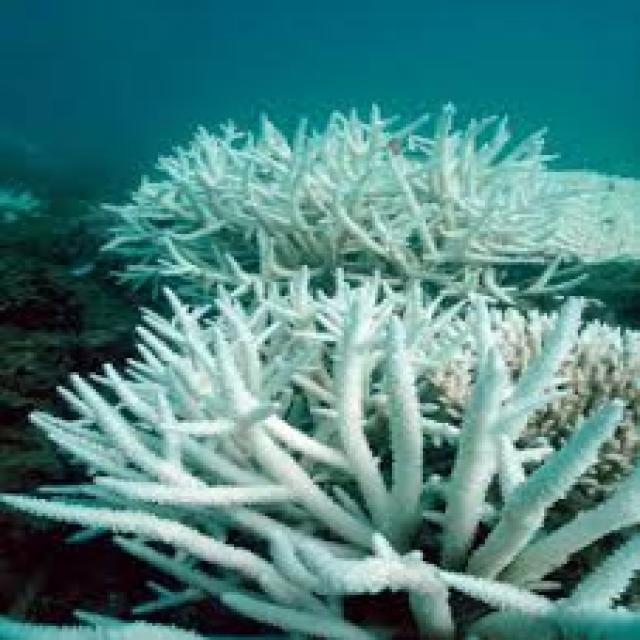Bleached: (46, 288, 640, 640), (116, 117, 567, 282), (421, 306, 640, 464), (511, 166, 640, 261)
